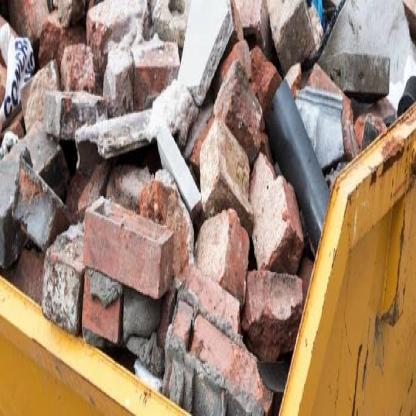brick: (0, 0, 397, 415), (1, 21, 14, 109)
